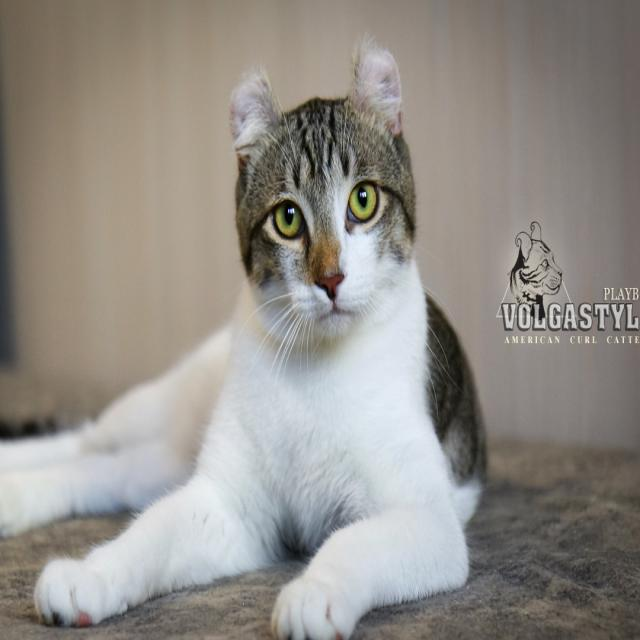American Curl: (0, 36, 492, 640)
